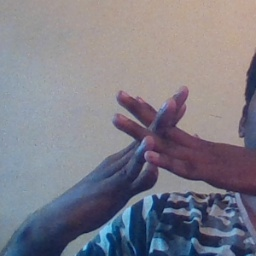W: (105, 68, 197, 195)
